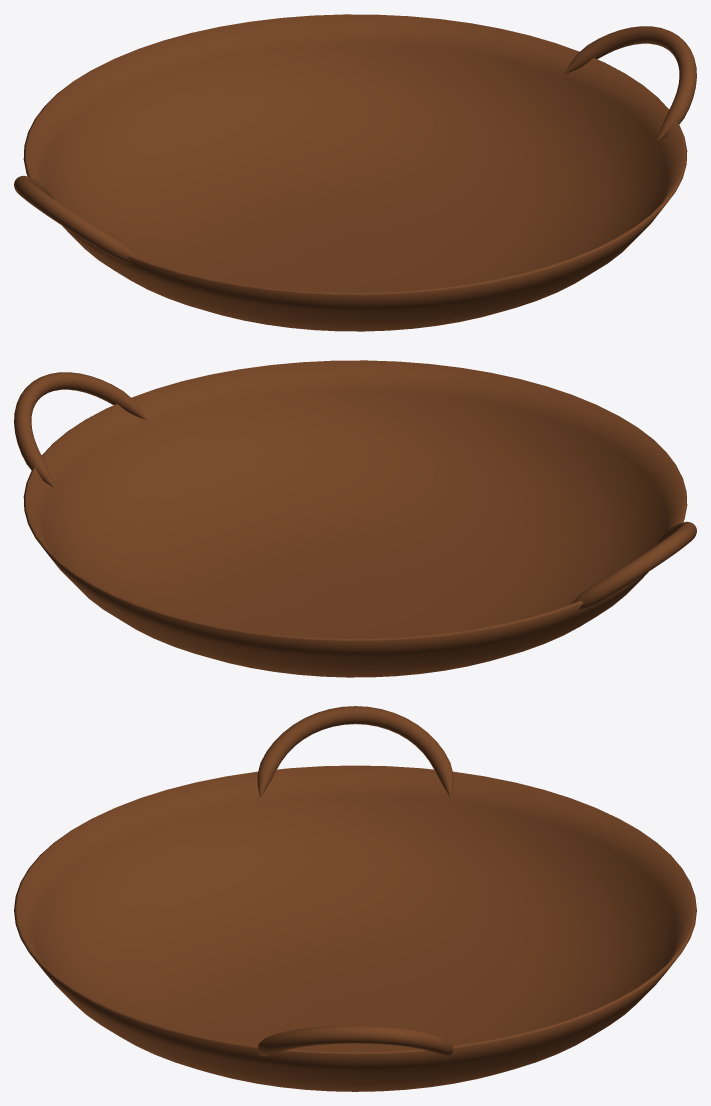
The model's file is PlateWith2Handle.fbx.
The picture shows the model from 3 angles, top to bottom: view 1: azimuth 30°, elevation 25°; view 2: azimuth 150°, elevation 25°; view 3: azimuth 270°, elevation 25°; orthographic projection. The views are drawn at different scales.
Visible parts, largest first — view 1: Sphere, Torus.001; view 2: Sphere, Torus.001; view 3: Sphere, Torus.001.
Boxes of the visible parts, x1,y1,x2,y2 form: Sphere: [23, 14, 687, 331]; Torus.001: [14, 26, 696, 263]; Sphere: [23, 360, 687, 677]; Torus.001: [14, 372, 696, 609]; Sphere: [14, 765, 696, 1091]; Torus.001: [257, 706, 453, 1056].
Bounding box in the file's own units: 208 × 43.68 × 184.
